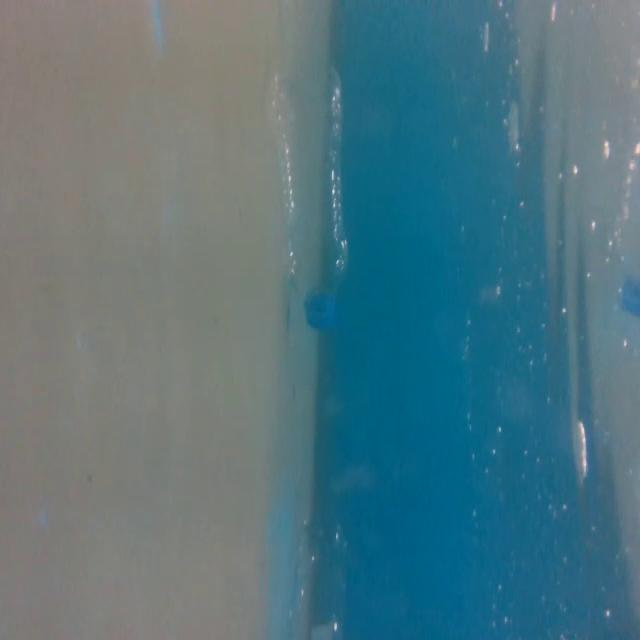plastic bottle: (258, 52, 360, 335)
